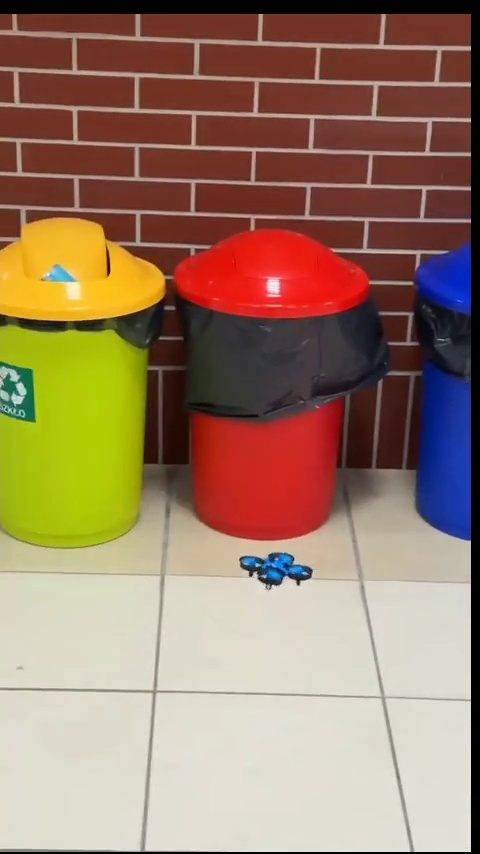drone: (236, 549, 317, 591)
